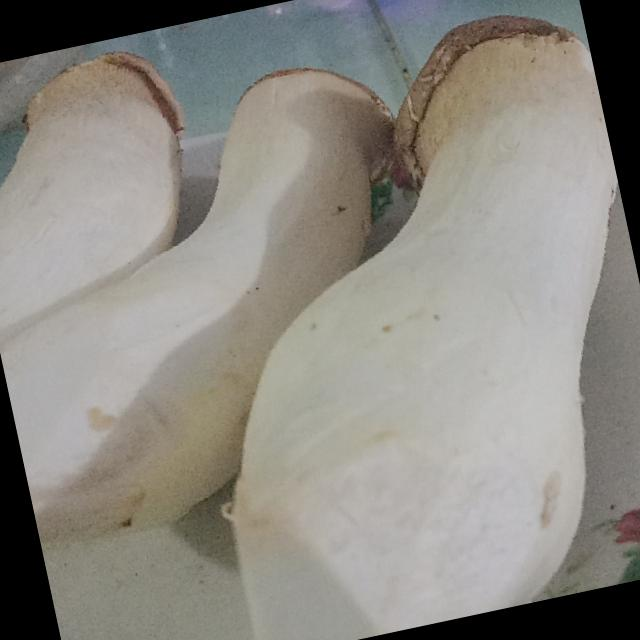Pleurotus eryngii: (133, 0, 640, 640), (0, 0, 468, 555)
